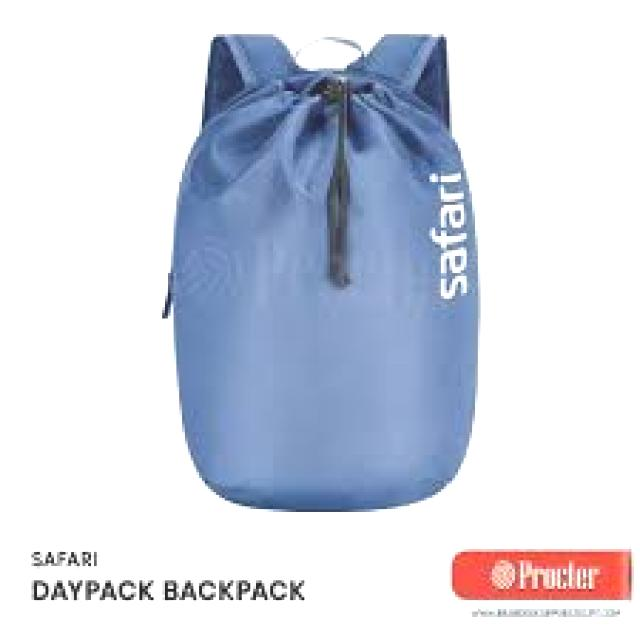backpack: (160, 29, 482, 513)
